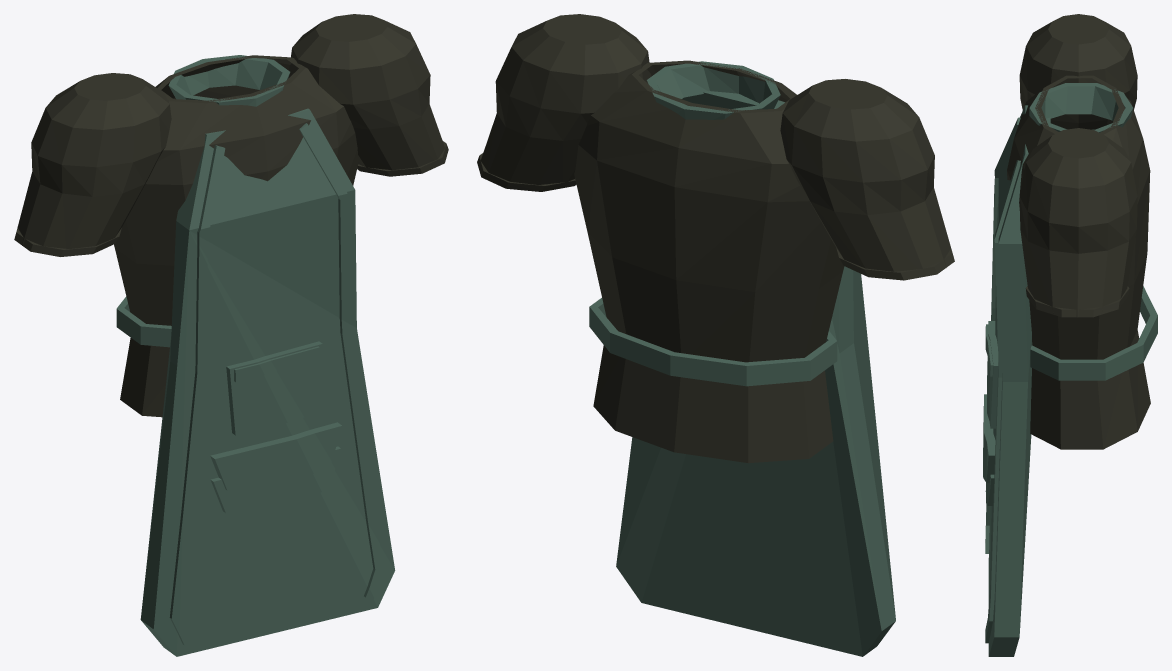
The model's file is leather_apron-male-scaledHide.glb.
The picture shows the model from 3 angles, left to right: view 1: azimuth 30°, elevation 25°; view 2: azimuth 150°, elevation 25°; view 3: azimuth 270°, elevation 25°; orthographic projection. The views are drawn at different scales.
Parts seen in each view (by area): view 1: Leather apron bib and skirt, Apron cloth undershirt, workshirt upper sleeve -1, workshirt upper sleeve 1, Apron stitched border -1, Apron working pocket, Apron stitched border 1, Lapped hide reinforcement Leather apron bib and skirt 0, Apron continuous neck loop, Lapped hide reinforcement Leather apron bib and skirt 1, Apron waist tie, Pocket turned lip (+2 smaller); view 2: Apron cloth undershirt, Leather apron bib and skirt, workshirt upper sleeve -1, workshirt upper sleeve 1, Apron waist tie, Apron continuous neck loop, Sleeve cuff binding -1, Sleeve cuff binding 1; view 3: workshirt upper sleeve 1, Apron cloth undershirt, Leather apron bib and skirt, workshirt upper sleeve -1, Apron waist tie, Apron continuous neck loop, Apron stitched border 1, Apron stitched border -1, Apron working pocket, Sleeve cuff binding 1, Lapped hide reinforcement Leather apron bib and skirt 0.
Part boxes in pixels (bbox=[...]): Leather apron bib and skirt: bbox=[140, 108, 395, 656]; Apron cloth undershirt: bbox=[114, 55, 358, 417]; workshirt upper sleeve -1: bbox=[17, 73, 171, 251]; workshirt upper sleeve 1: bbox=[288, 14, 445, 170]; Apron stitched border -1: bbox=[169, 145, 225, 645]; Apron working pocket: bbox=[226, 341, 322, 435]; Apron stitched border 1: bbox=[299, 123, 383, 599]; Lapped hide reinforcement Leather apron bib and skirt 0: bbox=[210, 422, 341, 490]; Apron continuous neck loop: bbox=[168, 55, 290, 106]; Lapped hide reinforcement Leather apron bib and skirt 1: bbox=[210, 446, 340, 513]; Apron waist tie: bbox=[116, 296, 171, 347]; Pocket turned lip: bbox=[234, 346, 319, 382]; Apron cloth undershirt: bbox=[574, 60, 844, 463]; Leather apron bib and skirt: bbox=[616, 91, 895, 656]; workshirt upper sleeve -1: bbox=[780, 79, 950, 273]; workshirt upper sleeve 1: bbox=[480, 14, 651, 184]; Apron waist tie: bbox=[589, 298, 837, 386]; Apron continuous neck loop: bbox=[647, 61, 780, 119]; Sleeve cuff binding -1: bbox=[836, 248, 954, 280]; Sleeve cuff binding 1: bbox=[477, 153, 576, 191]; workshirt upper sleeve 1: bbox=[1019, 128, 1137, 317]; Apron cloth undershirt: bbox=[1007, 75, 1150, 449]; Leather apron bib and skirt: bbox=[988, 105, 1050, 656]; workshirt upper sleeve -1: bbox=[1019, 14, 1137, 129]; Apron waist tie: bbox=[1030, 286, 1157, 380]; Apron continuous neck loop: bbox=[1029, 83, 1133, 132]; Apron stitched border 1: bbox=[985, 160, 1020, 643]; Apron stitched border -1: bbox=[985, 117, 1020, 553]; Apron working pocket: bbox=[987, 321, 998, 428]; Sleeve cuff binding 1: bbox=[1025, 286, 1129, 317]; Lapped hide reinforcement Leather apron bib and skirt 0: bbox=[983, 394, 995, 482].
Bounding box in the file's own units: 3.33 × 4.11 × 1.25.
